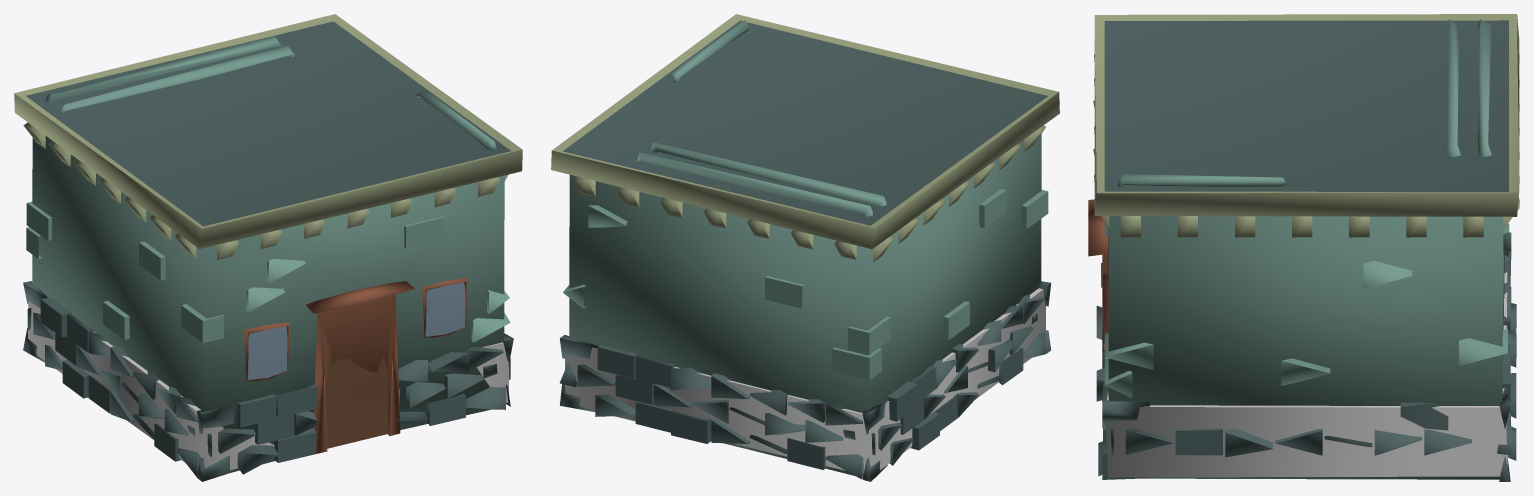
The model's file is small-building-b.low.glb.
3 renders of one model, left to right at view 1: azimuth 30°, elevation 25°; view 2: azimuth 150°, elevation 25°; view 3: azimuth 270°, elevation 25°, orthographic. The views are drawn at different scales.
Visible parts, largest first — view 1: 1Story_Mat; view 2: 1Story_Mat; view 3: 1Story_Mat.
Part boxes in pixels (box(x1,y1,x2,y2)): 1Story_Mat: box(14, 14, 522, 481); 1Story_Mat: box(551, 14, 1059, 481); 1Story_Mat: box(1088, 14, 1519, 481).
Size of the model in its own units: 2.15 by 1.67 by 2.17.
